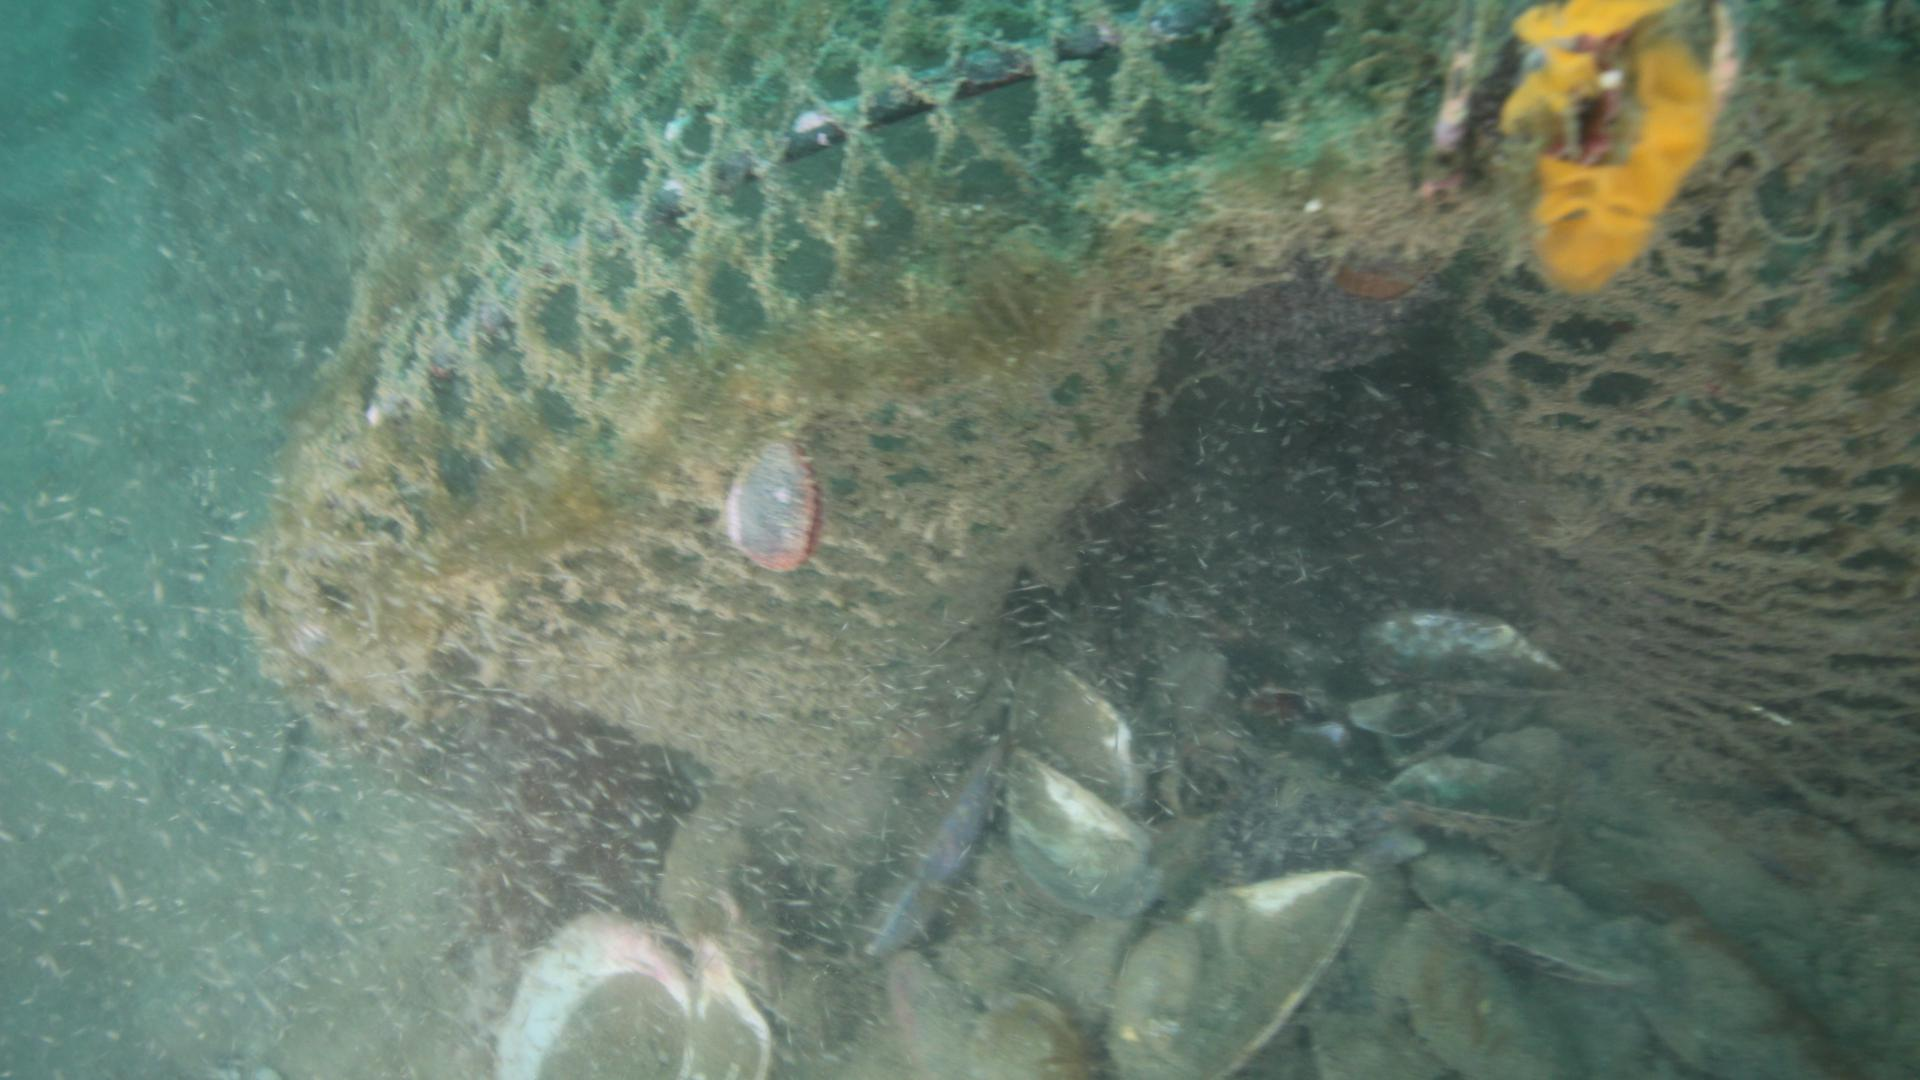circular fish trap: (145, 0, 1920, 882)
